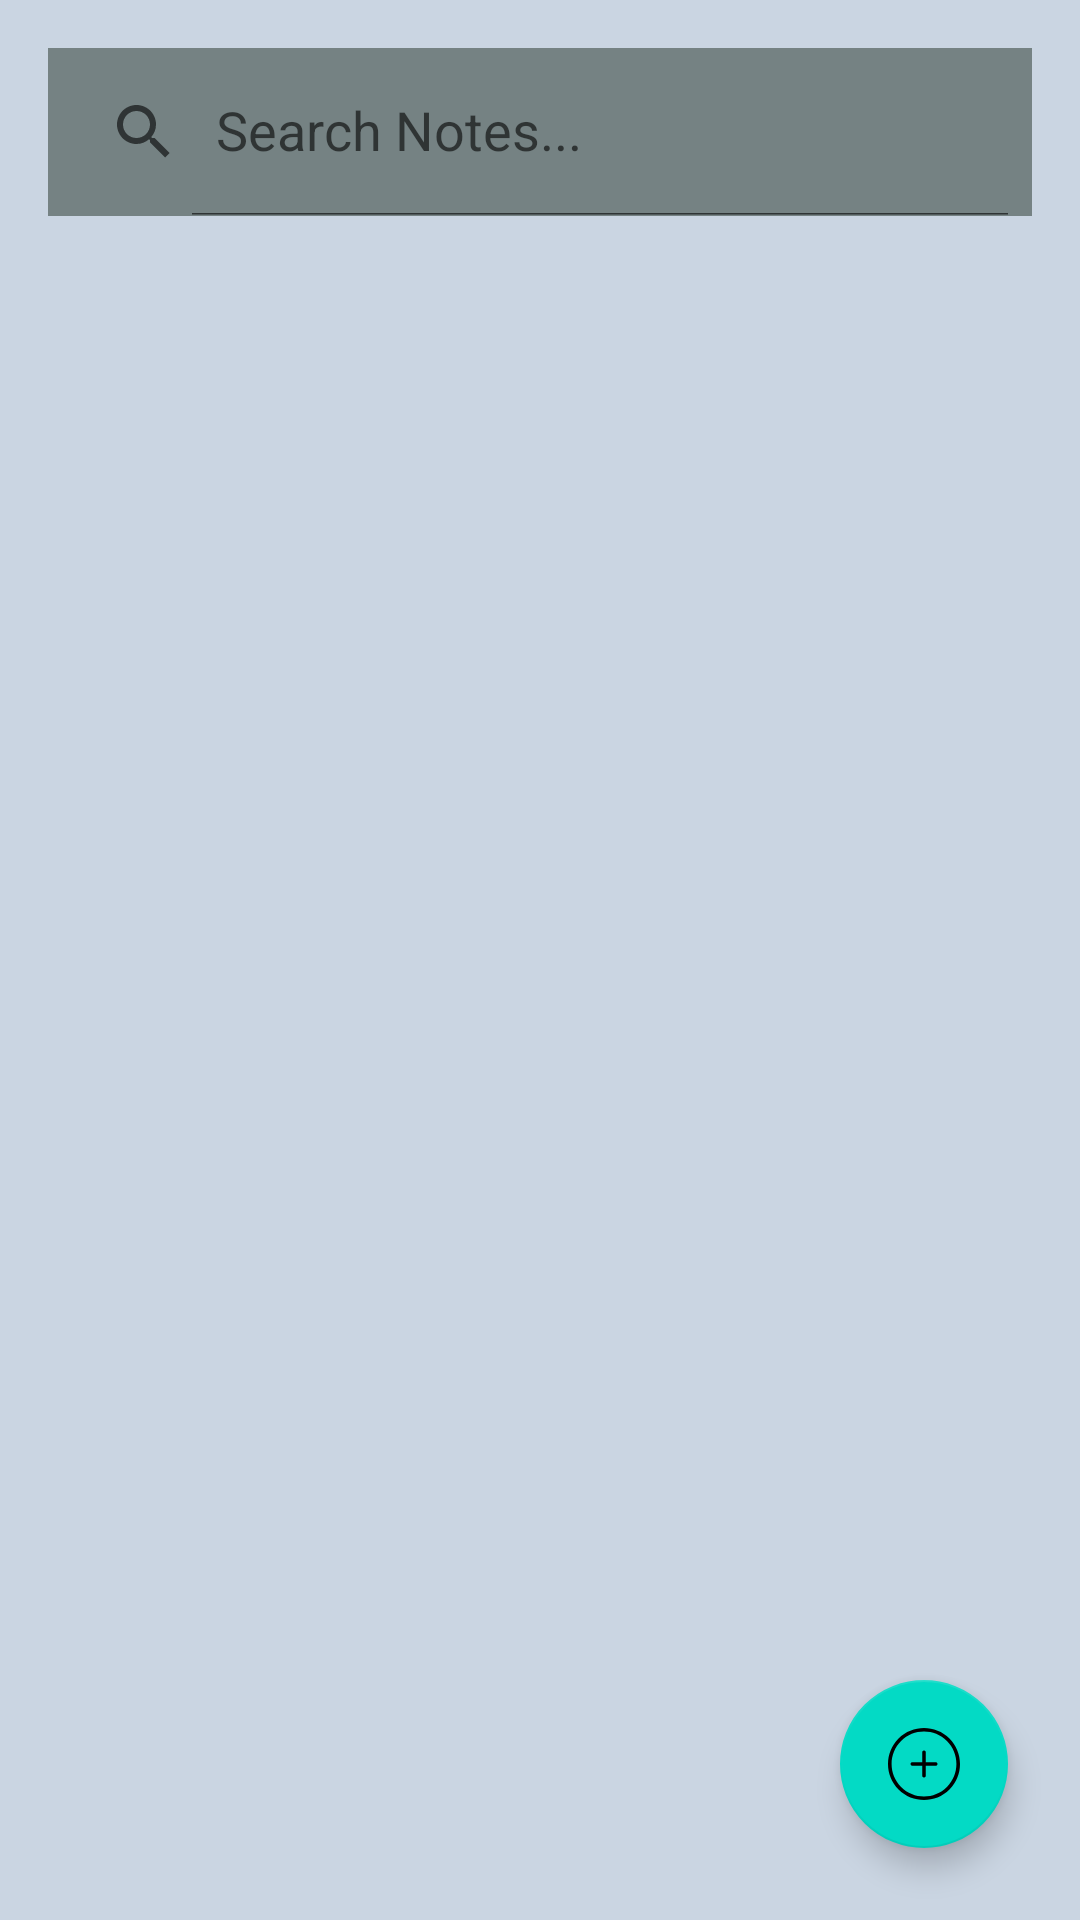

Screen size 1080*1920. Icon name, then its center in pixels as (x,y):
plus: (924,1764)
